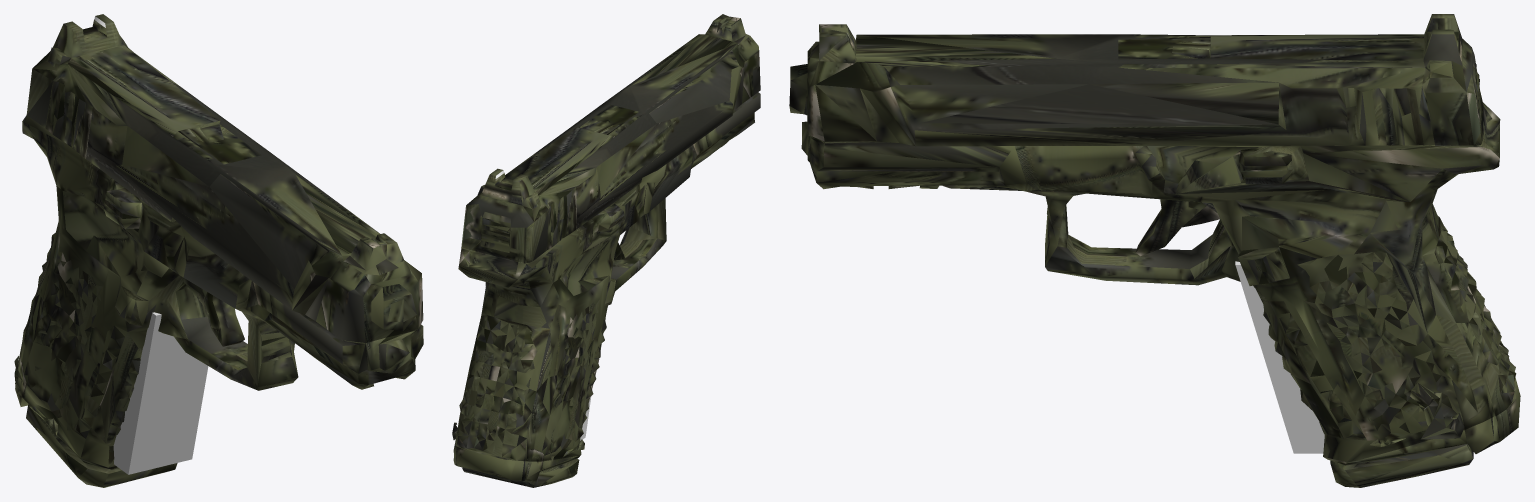
The picture shows the model from 3 angles, left to right: view 1: azimuth 30°, elevation 25°; view 2: azimuth 150°, elevation 25°; view 3: azimuth 270°, elevation 25°; orthographic projection. The views are drawn at different scales.
Visible parts, largest first — view 1: Body, Bolt, Magazine; view 2: Body, Bolt, Magazine; view 3: Body, Bolt, Magazine.
Boxes of the visible parts, box(x1,y1,x2,y2) form: Body: box(14, 115, 423, 469); Bolt: box(26, 14, 423, 343); Magazine: box(15, 312, 208, 487); Body: box(452, 92, 760, 461); Bolt: box(461, 14, 760, 263); Magazine: box(453, 389, 592, 487); Body: box(801, 102, 1516, 462); Bolt: box(789, 14, 1483, 146); Magazine: box(1235, 261, 1520, 487).
Size of the model in its own units: 0.0698 by 0.2121 by 0.3156.
